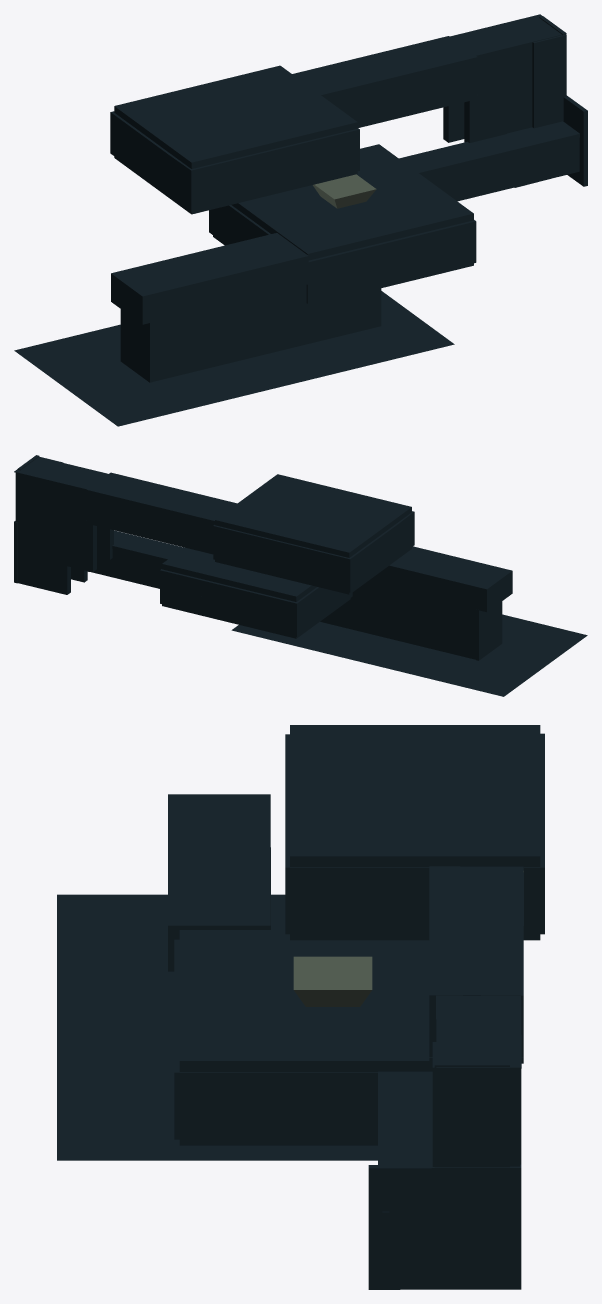
Rendered from room.fbx.
3 views of the same model, one above another, from view 1: azimuth 30°, elevation 25°; view 2: azimuth 150°, elevation 25°; view 3: azimuth 270°, elevation 25° (orthographic). The views are drawn at different scales.
Visible parts, largest first — view 1: Plane, Cube.086, Cube.070, Cube.101, Cube.091, Cube.100, Cube.082, Cube.057, Cube.081, Cube.073, Cube.097, Cube.102 (+6 smaller); view 2: Plane, Cube.086, Cube.091, Cube.082, Cube.069, Cube.057, Cube.100, Cube.078, Cube.081, Cube.101, Cube.072, Cube.045 (+4 smaller); view 3: Cube.086, Plane, Cube.101, Cube.079, Cube.057, Cube.100, Cube.082, Cube.091, Cube.103, Cube.081, Cube.097, Cube.048 (+3 smaller).
Boxes of the visible parts, x1,y1,x2,y2 form: Plane: [14, 291, 454, 426]; Cube.086: [114, 65, 357, 168]; Cube.070: [153, 285, 381, 381]; Cube.101: [231, 144, 473, 260]; Cube.091: [110, 111, 359, 211]; Cube.100: [111, 233, 308, 324]; Cube.082: [292, 36, 477, 124]; Cube.057: [209, 205, 476, 303]; Cube.081: [443, 14, 566, 142]; Cube.073: [423, 137, 579, 201]; Cube.097: [399, 121, 579, 175]; Cube.102: [532, 35, 566, 128]; Plane: [231, 614, 587, 696]; Cube.086: [215, 474, 411, 557]; Cube.091: [213, 511, 414, 592]; Cube.082: [87, 472, 236, 551]; Cube.069: [320, 583, 475, 659]; Cube.057: [160, 569, 352, 636]; Cube.100: [366, 546, 512, 612]; Cube.078: [15, 472, 87, 594]; Cube.081: [14, 457, 113, 572]; Cube.101: [162, 547, 316, 601]; Cube.072: [88, 549, 164, 588]; Cube.045: [476, 601, 502, 660]; Cube.086: [290, 725, 540, 870]; Plane: [57, 894, 377, 1160]; Cube.101: [179, 930, 432, 1071]; Cube.079: [368, 1164, 521, 1289]; Cube.057: [174, 939, 377, 1139]; Cube.100: [168, 794, 270, 971]; Cube.082: [429, 866, 523, 1057]; Cube.091: [285, 733, 544, 934]; Cube.103: [434, 1062, 509, 1167]; Cube.081: [436, 995, 521, 1164]; Cube.097: [378, 1071, 432, 1164]; Cube.048: [293, 956, 372, 1006].
Size of the model in its own units: 36882 by 80114 by 25032.
